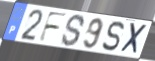2: (19, 9, 44, 42)
9: (83, 17, 104, 50)
F: (37, 11, 69, 44)
S: (60, 13, 86, 48), (101, 21, 125, 53)
X: (118, 22, 149, 57)
